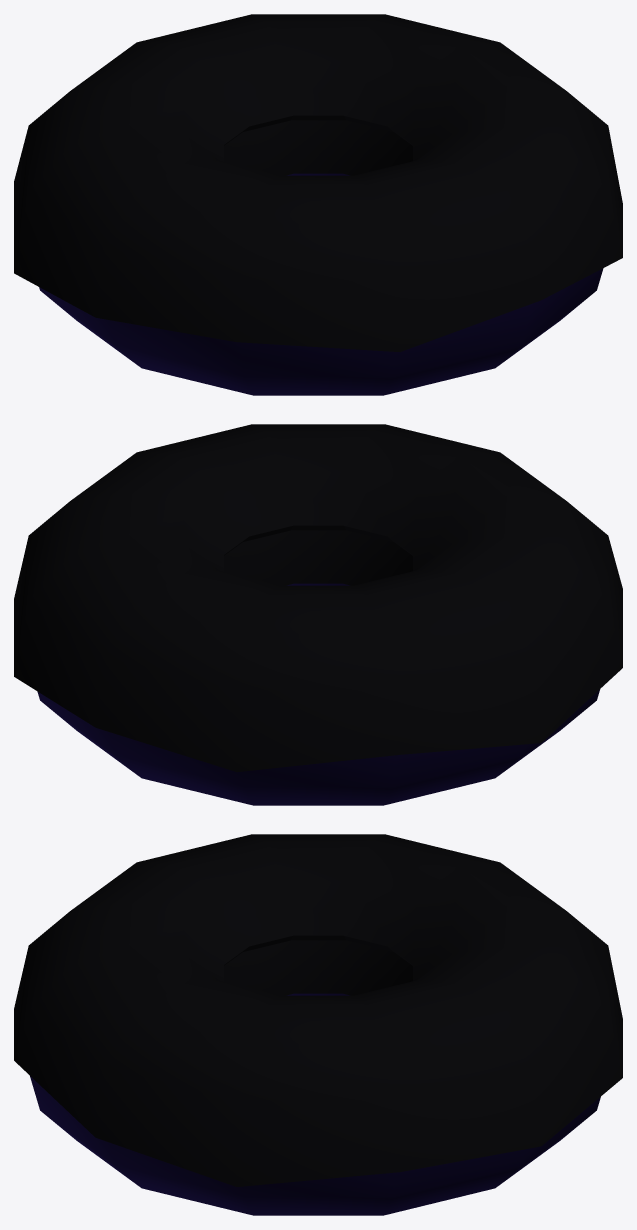
File: Donut.FBX
3 views of the same model, one above another, from view 1: azimuth 30°, elevation 25°; view 2: azimuth 150°, elevation 25°; view 3: azimuth 270°, elevation 25° (orthographic).
Visible parts, largest first — view 1: Torus001; view 2: Torus001; view 3: Torus001.
Boxes of the visible parts, x1,y1,x2,y2 form: Torus001: [14, 14, 622, 395]; Torus001: [14, 424, 622, 805]; Torus001: [14, 834, 622, 1215].
Bounding box in the file's own units: 45.31 × 16.56 × 45.31.
